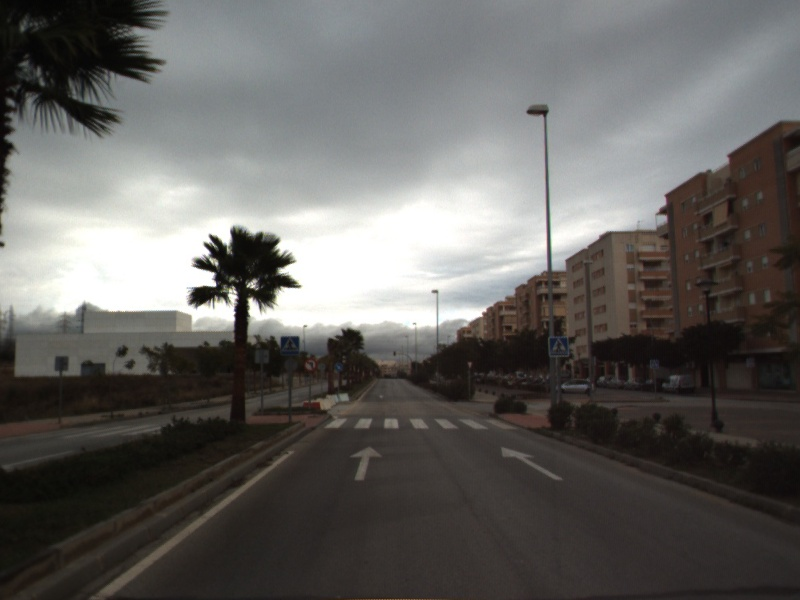STRAIGHT: (500, 446, 565, 482), (348, 444, 385, 482)
